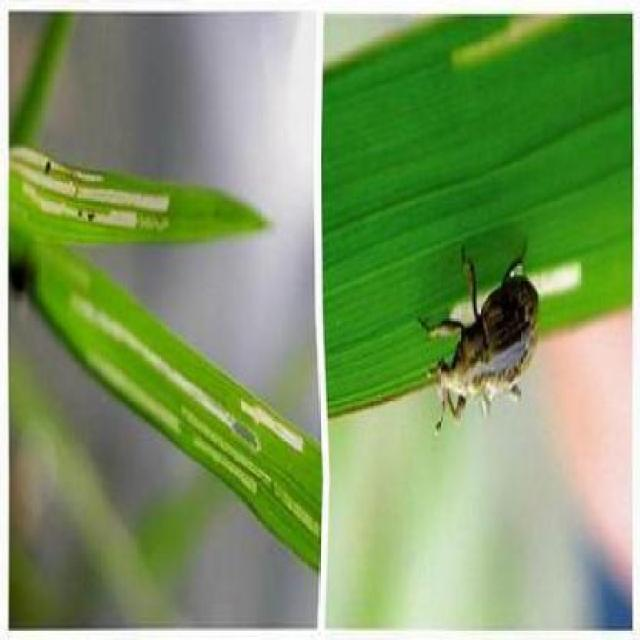rice-bug: (424, 248, 541, 428)
